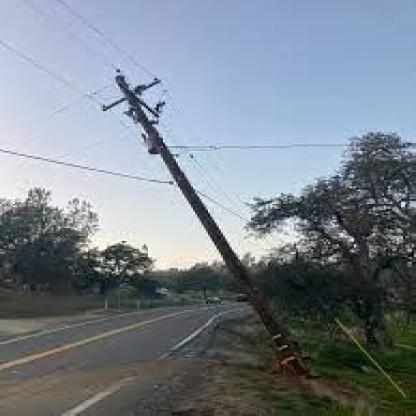Electrical Pole: (73, 56, 337, 379)
